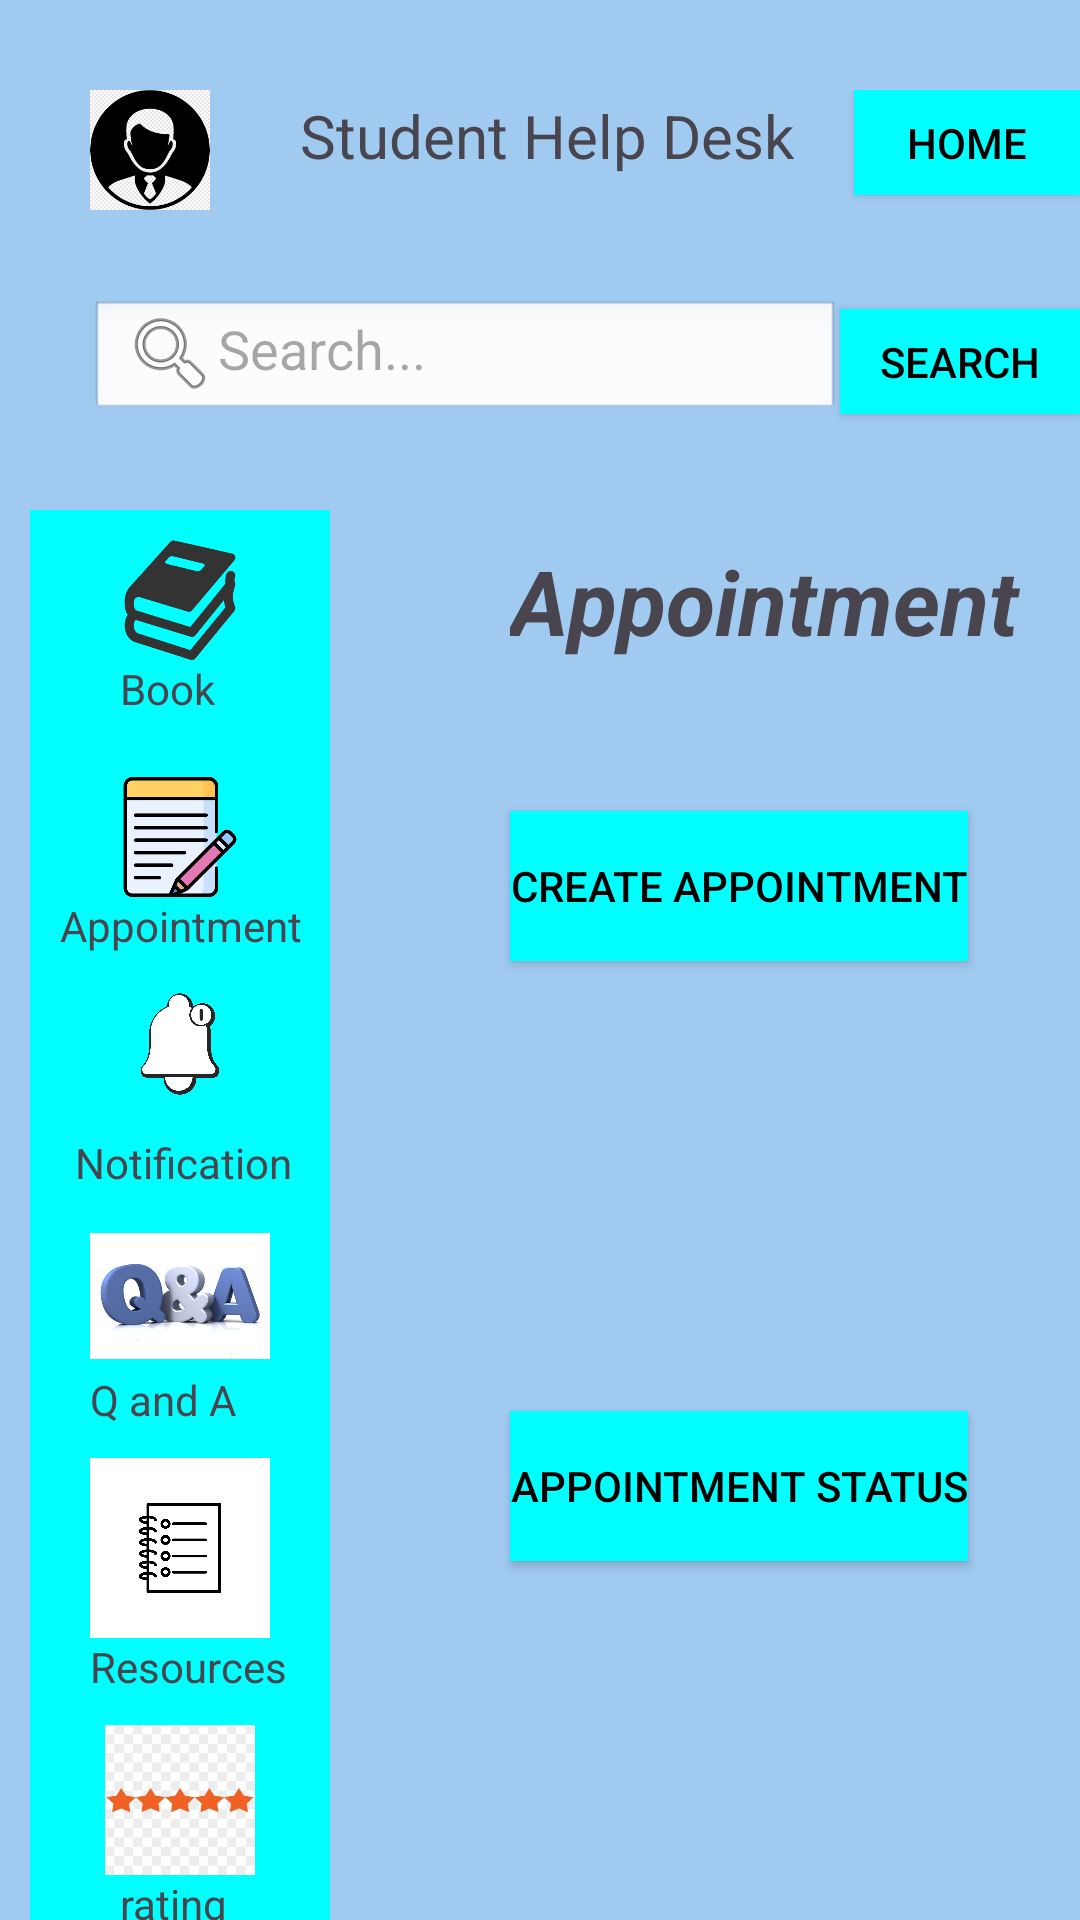

Point at icon controls on the screen. Image size 1080×1920, points as point (x, y).
profile: point (150, 150)
